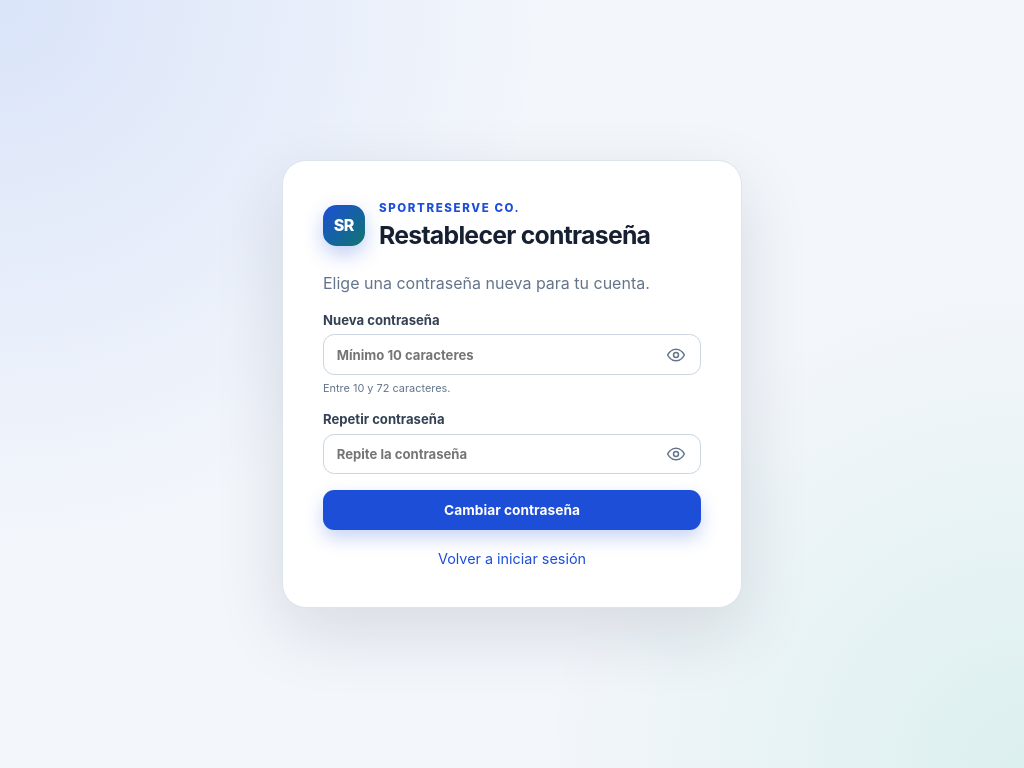
ResetPasswordPage › valida campos requeridos y contraseñas diferentes
Click the button "Cambiar contraseña" at (512, 510), box [323,490,701,530]
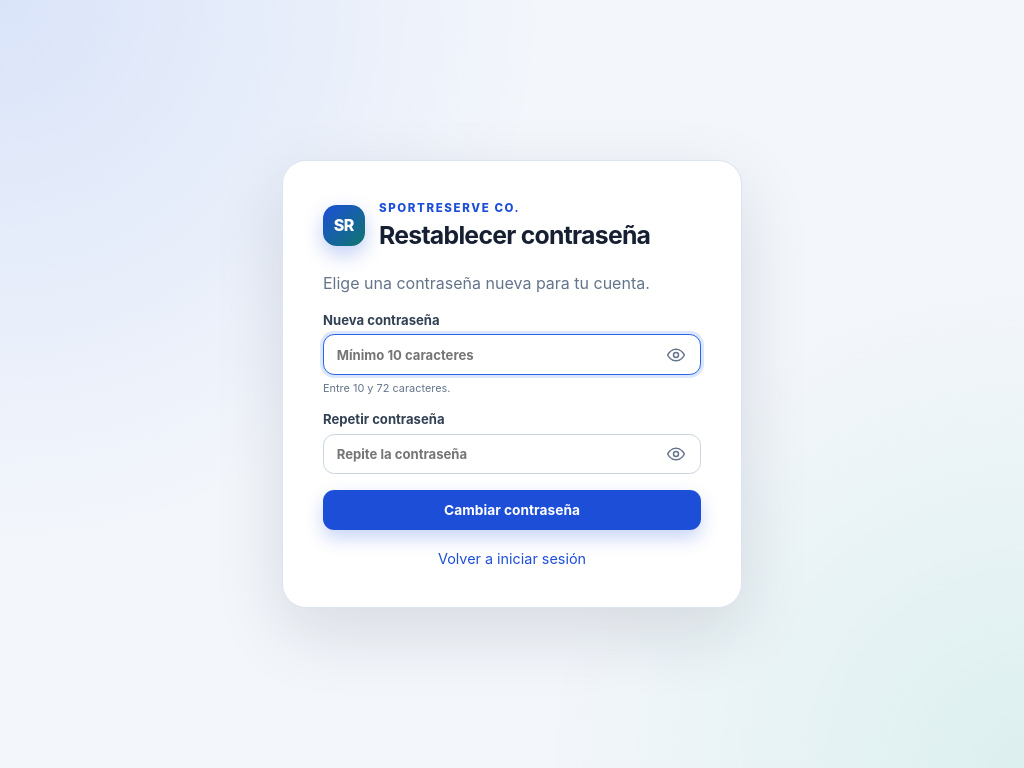
Type "password123" into the password field labelled "Nueva contraseña Entre 10 y 72 caracteres." at (512, 355), box [323,334,701,375]
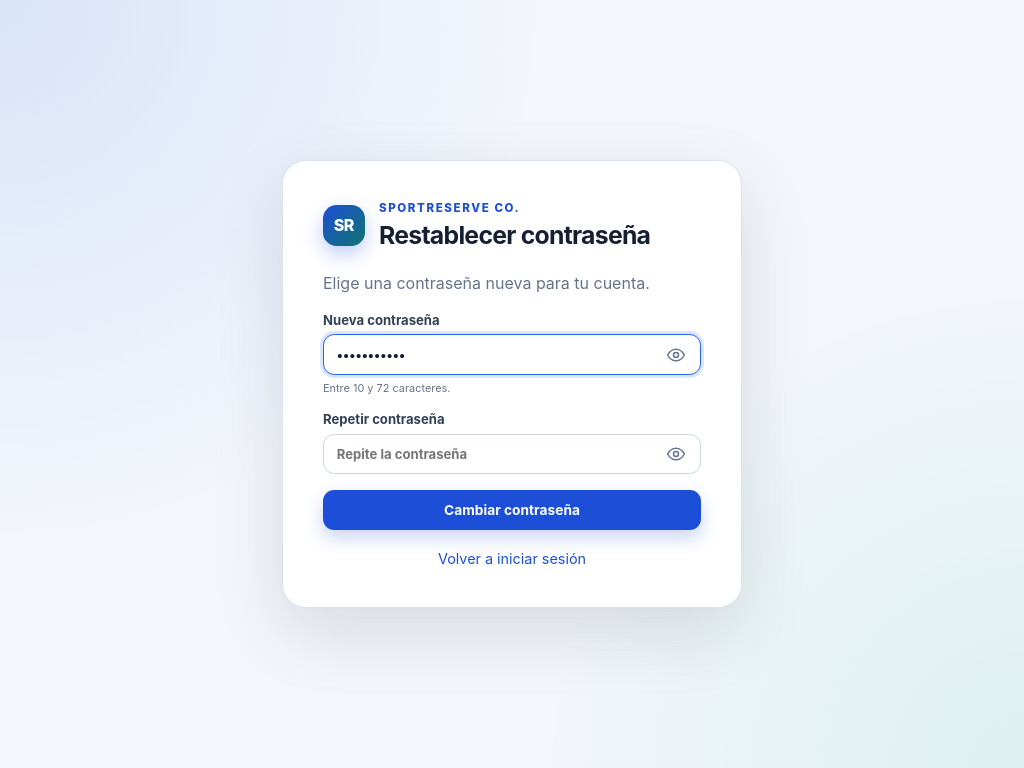
Type "diferente123" into the password field labelled "Repetir contraseña" at (512, 454), box [323,434,701,474]
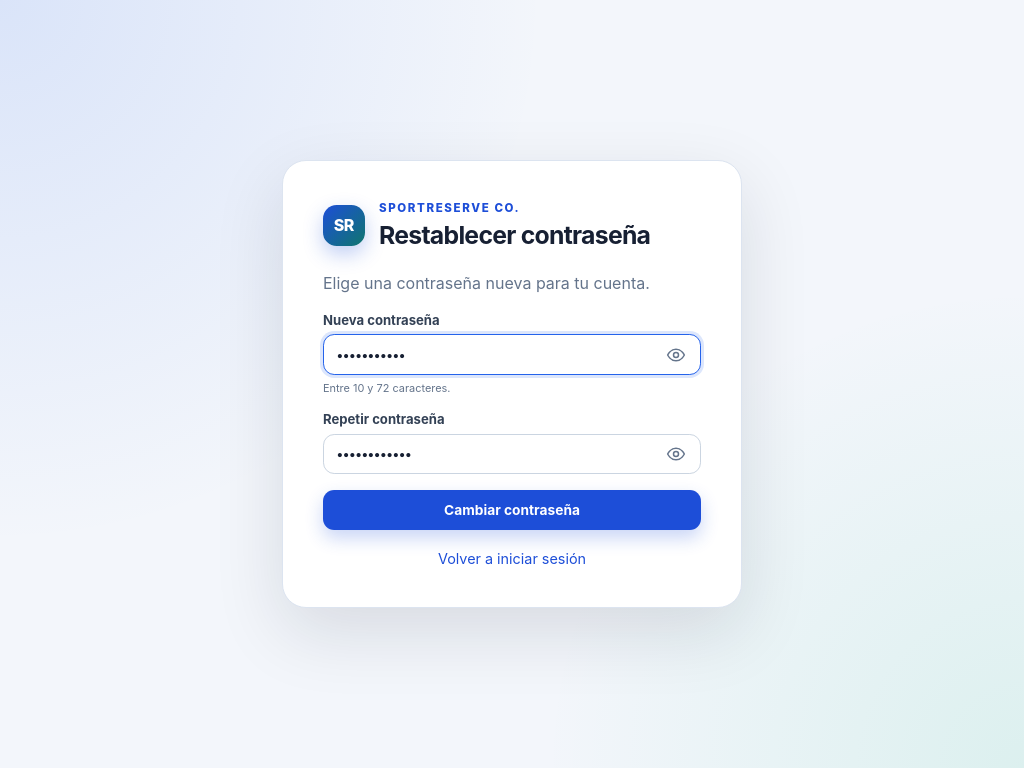
Click the button "Cambiar contraseña" at (512, 510), box [323,490,701,530]
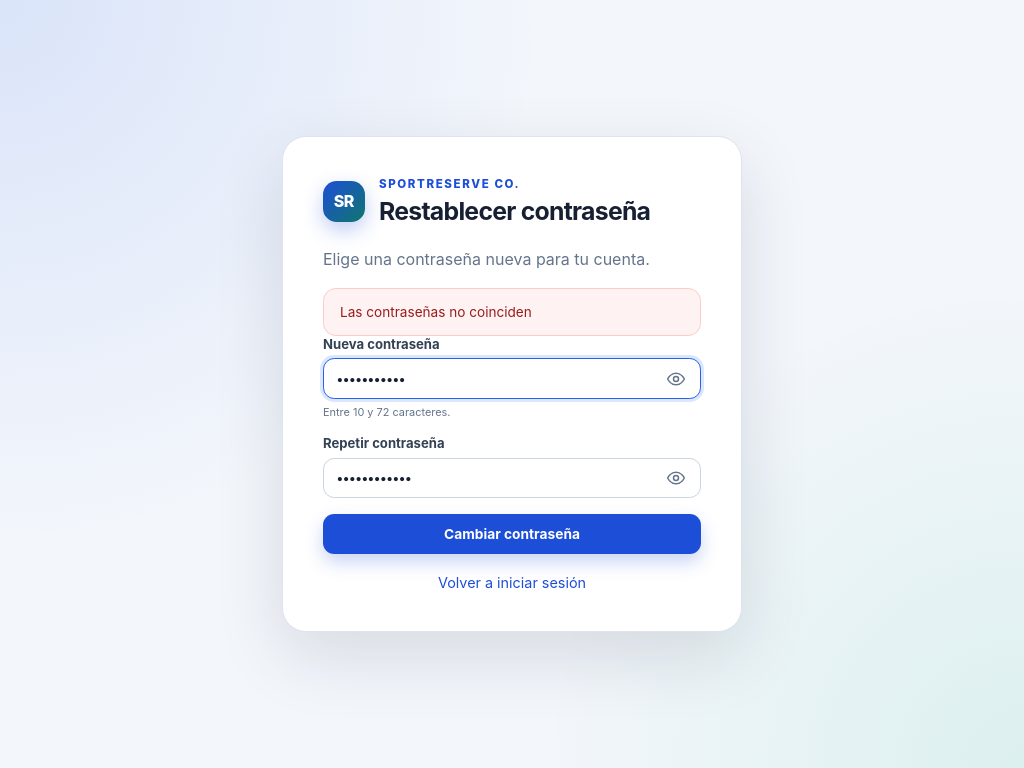
Now the message reads "Las contraseñas no coinciden", box [340,304,532,320]
